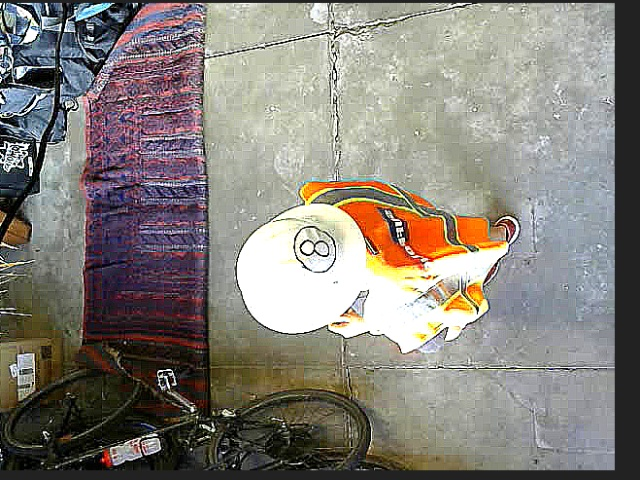eight: (293, 224, 337, 272)
